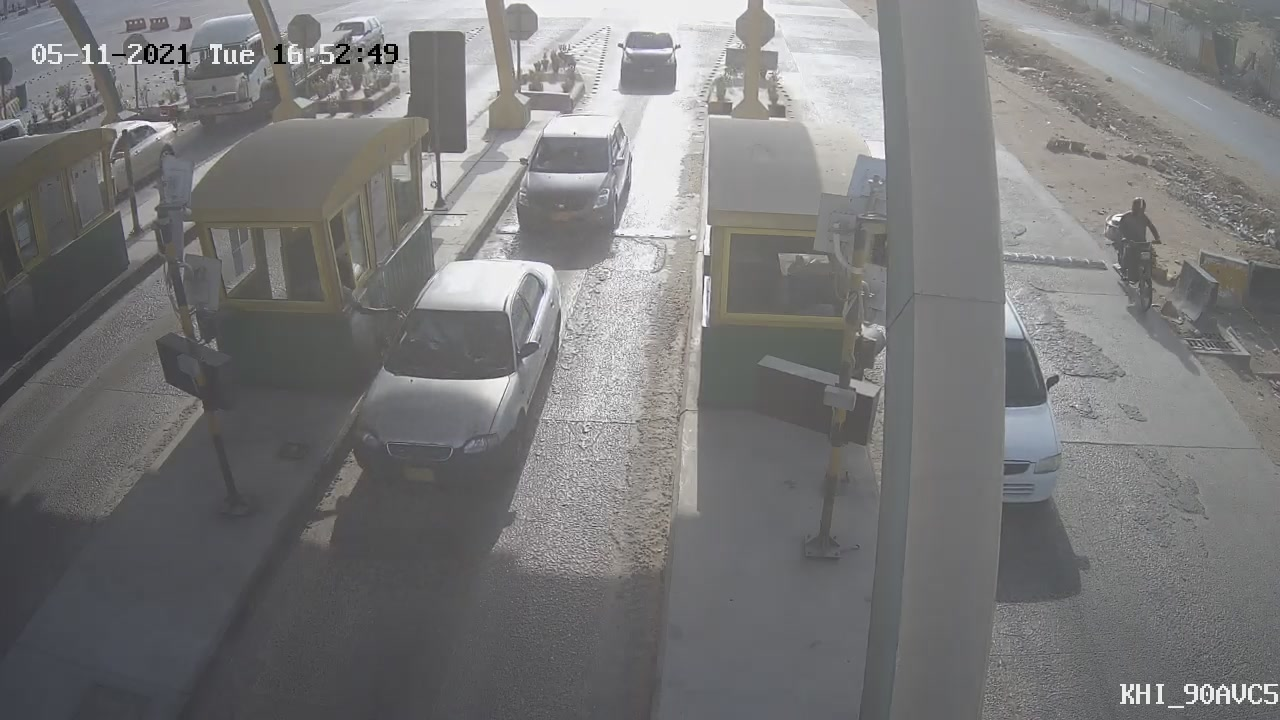F1: (325, 234, 594, 518), (498, 100, 650, 257)
